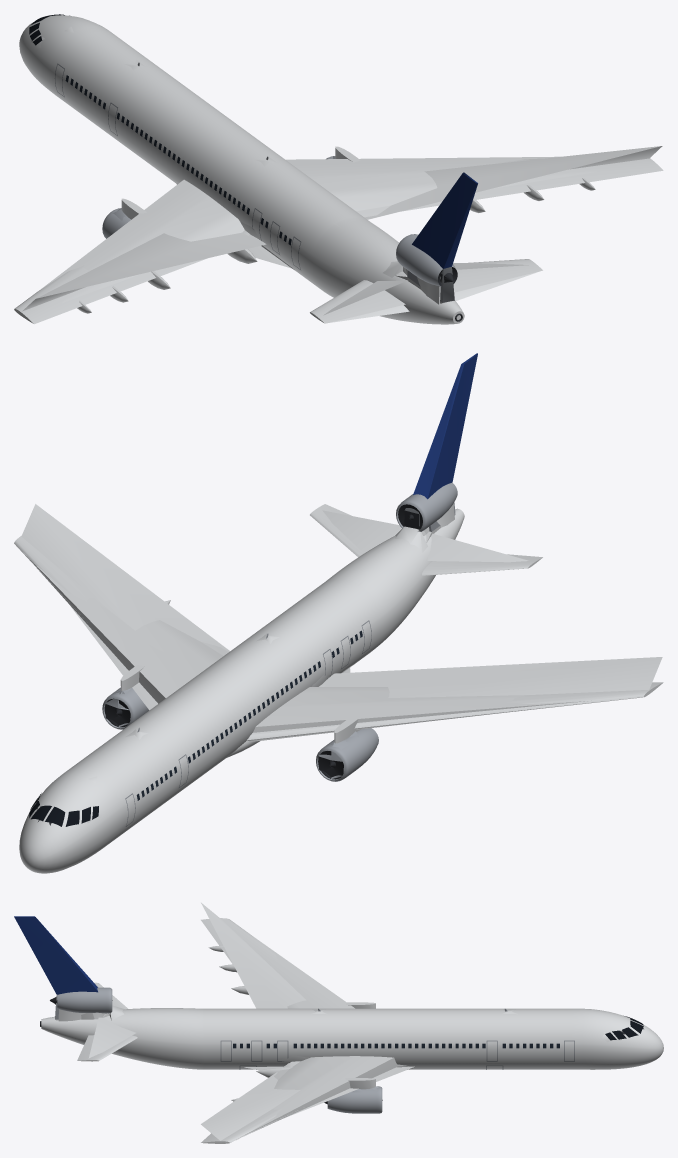
File: lat_trijet.dae
3 views of the same model, one above another, from view 1: azimuth 30°, elevation 25°; view 2: azimuth 150°, elevation 25°; view 3: azimuth 270°, elevation 25° (orthographic). The views are drawn at different scales.
Parts seen in each view (by area): view 1: lat_trijet150, lat_trijet32, lat_trijet1; view 2: lat_trijet150, lat_trijet1, lat_trijet32; view 3: lat_trijet150, lat_trijet1, lat_trijet32.
Boxes of the visible parts, x1,y1,x2,y2 form: lat_trijet150: (14, 14, 663, 324); lat_trijet32: (30, 26, 596, 322); lat_trijet1: (22, 146, 662, 315); lat_trijet150: (14, 482, 663, 873); lat_trijet1: (21, 353, 662, 710); lat_trijet32: (23, 503, 591, 826); lat_trijet150: (40, 918, 663, 1143); lat_trijet1: (14, 902, 414, 1140); lat_trijet32: (54, 936, 643, 1137).
Bounding box in the file's own units: 51.9 × 63.89 × 17.13.
